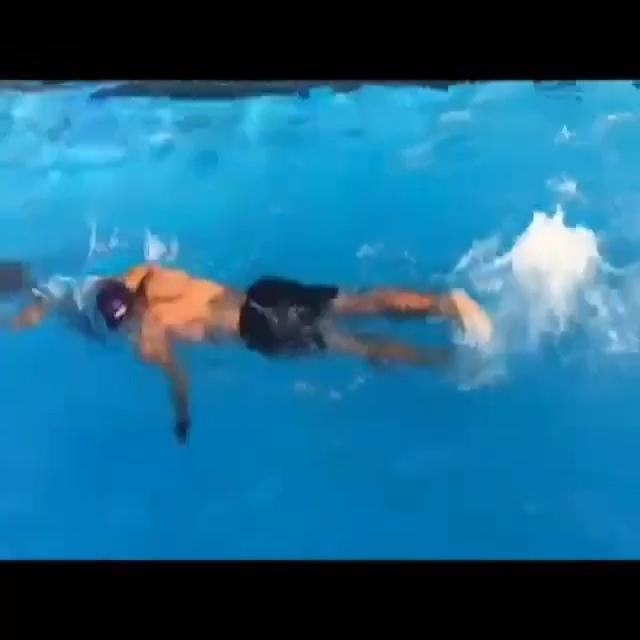Swimming: (15, 250, 494, 453)
